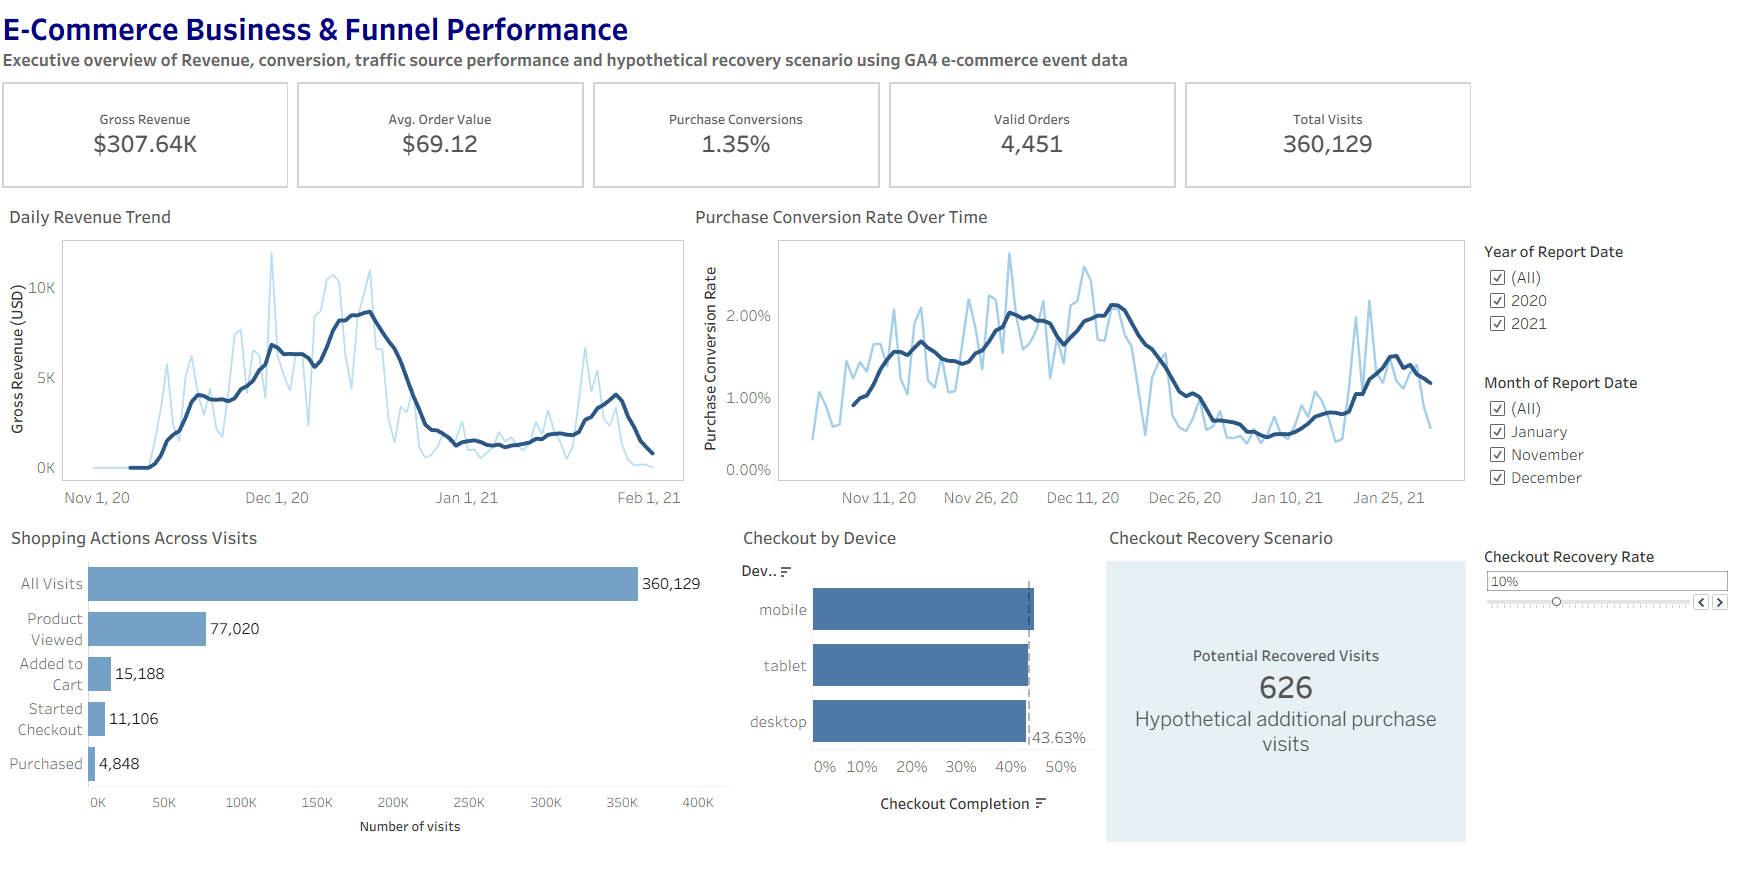

What the dashboard file says about the page in this screenshot:
{"tool":"tableau","page":{"name":"Business & Funnel","canvas":[1000,1000],"units":"permille","ordinal":0},"visuals":[{"type":"text","box":[6.7,6.2,984.8,55.4]},{"type":"worksheet","title":"Gross Revenue","mark":"Automatic","box":[5.5,63.1,168.3,89.2]},{"type":"worksheet","title":"Avg Order Value","mark":"Automatic","box":[173.8,63.1,168.3,89.2]},{"type":"worksheet","title":"Purchase Conversations","mark":"Automatic","box":[342.1,63.1,168.3,89.2]},{"type":"worksheet","title":"Valid order","mark":"Automatic","box":[510.4,63.1,168.3,89.2]},{"type":"worksheet","title":"Total Visits","mark":"Automatic","box":[678.7,63.1,168.3,89.2]},{"type":"worksheet","title":"Revenue Trend","mark":"Line","rows":["gross_purchase_revenue_usd","Calculation_9477305313042434"],"cols":["report_date"],"box":[8.5,155.4,418.6,246.9]},{"type":"worksheet","title":"Conversion Trend","mark":"Line","rows":["Calculation_9477305308921856","Calculation_9477305315700739"],"cols":["report_date"],"box":[427.1,155.4,416.3,246.9]},{"type":"filter","title":"Filters","param":"[federated.1079t3v10lgwz11h869xq0w8yy5r].[yr:report_date:ok]","box":[849.5,186.2,145,100.8]},{"type":"filter","title":"Filters","param":"[federated.1079t3v10lgwz11h869xq0w8yy5r].[mn:report_date:ok]","box":[849.5,286.9,145,109.2]},{"type":"worksheet","title":"Filters","mark":"Automatic","box":[849.5,396.2,145,24.6]},{"type":"worksheet","title":"Shopping Stages","mark":"Bar","box":[9.8,402.3,416.8,246.9]},{"type":"worksheet","title":"Checkout by Device","mark":"Bar","rows":["device"],"cols":["Calculation_9477305325903876"],"box":[426.6,402.3,223.3,252.3]},{"type":"worksheet","title":"Checkout Recovery Scenario","mark":"Text","box":[649.9,402.3,194.7,252.3]},{"type":"parameter","param":"[Parameters].[Parameter 9477305334587399]","box":[849.5,420.8,145,82.3]}]}

Visuals, with their boxes on the dashboard's canvas, which has no fixed pixel size, in thousandths of its width and height (x1, y1, x2, y2). These are canvas units, not pixel positions in the 1740x888 screenshot, which may show the page scaled, cropped or inside an application window:
text: 7/6/992/62
"Gross Revenue" worksheet: 6/63/174/152
"Avg Order Value" worksheet: 174/63/342/152
"Purchase Conversations" worksheet: 342/63/510/152
"Valid order" worksheet: 510/63/679/152
"Total Visits" worksheet: 679/63/847/152
"Revenue Trend" worksheet (Line marks): 8/155/427/402
"Conversion Trend" worksheet (Line marks): 427/155/843/402
"Filters" filter: 850/186/994/287
"Filters" filter: 850/287/994/396
"Filters" worksheet: 850/396/994/421
"Shopping Stages" worksheet (Bar marks): 10/402/427/649
"Checkout by Device" worksheet (Bar marks): 427/402/650/655
"Checkout Recovery Scenario" worksheet (Text marks): 650/402/845/655
parameter: 850/421/994/503
